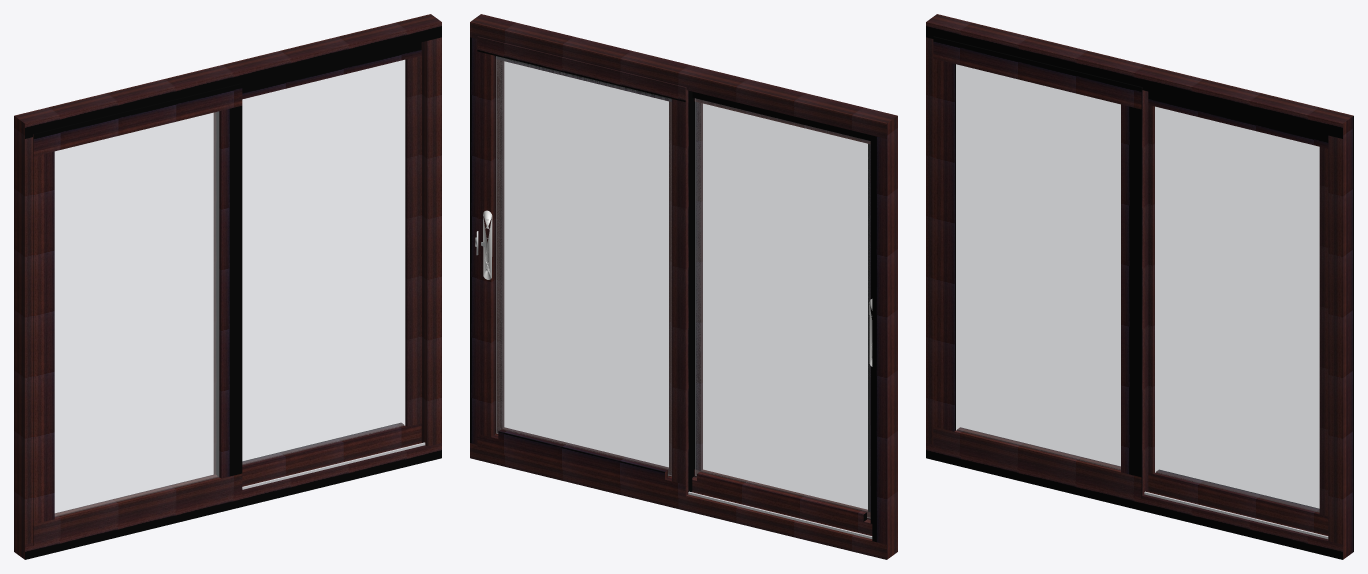
The model's file is FSQ_UPVC_Sliding_2Track_v01.glb.
The picture shows the model from 3 angles, left to right: view 1: azimuth 30°, elevation 25°; view 2: azimuth 150°, elevation 25°; view 3: azimuth 330°, elevation 25°; orthographic projection.
Visible parts, largest first — view 1: Left_Glass_5mm.001, Right_Glass_5mm.001, Frame_Outer_PS50_UF_01.001, Left_Sash_PS50_US_01.001, Right_Sash_PS50_US_01.001, Left_Bead_PA50_UB_01.001, Right_Bead_PA50_UB_01.001, Track_Rails_Alum.001; view 2: Right_Glass_5mm.001, Left_Glass_5mm.001, Frame_Outer_PS50_UF_01.001, Right_Sash_PS50_US_01.001, Left_Sash_PS50_US_01.001, Right_Bead_PA50_UB_01.001, Left_Bead_PA50_UB_01.001, Interlock_Right_PS50_UO_01.001, Track_Rails_Alum.001, TouchLock_Right_Body; view 3: Right_Glass_5mm.001, Left_Glass_5mm.001, Frame_Outer_PS50_UF_01.001, Left_Sash_PS50_US_01.001, Right_Sash_PS50_US_01.001, Interlock_Left_PS50_UO_01.001, Left_Bead_PA50_UB_01.001, Right_Bead_PA50_UB_01.001, Track_Rails_Alum.001.
Part boxes in pixels (x1,y1,x2,y2): Left_Glass_5mm.001: (55,111,218,516); Right_Glass_5mm.001: (242,60,404,464); Frame_Outer_PS50_UF_01.001: (14,14,441,559); Left_Sash_PS50_US_01.001: (33,83,242,545); Right_Sash_PS50_US_01.001: (213,42,421,485); Left_Bead_PA50_UB_01.001: (54,474,218,517); Right_Bead_PA50_UB_01.001: (242,423,404,465); Track_Rails_Alum.001: (242,442,425,489); Right_Glass_5mm.001: (496,56,671,475); Left_Glass_5mm.001: (695,98,870,518); Frame_Outer_PS50_UF_01.001: (470,14,897,559); Right_Sash_PS50_US_01.001: (477,36,691,499); Left_Sash_PS50_US_01.001: (692,91,872,535); Right_Bead_PA50_UB_01.001: (498,429,667,479); Left_Bead_PA50_UB_01.001: (697,471,866,521); Interlock_Right_PS50_UO_01.001: (691,91,692,491); Track_Rails_Alum.001: (688,491,872,538); TouchLock_Right_Body: (483,210,492,279); Right_Glass_5mm.001: (1155,107,1319,512); Left_Glass_5mm.001: (956,64,1120,469); Frame_Outer_PS50_UF_01.001: (926,14,1353,559); Left_Sash_PS50_US_01.001: (933,36,1147,499); Right_Sash_PS50_US_01.001: (1148,91,1328,535); Interlock_Left_PS50_UO_01.001: (1147,91,1148,491); Left_Bead_PA50_UB_01.001: (957,427,1120,470); Right_Bead_PA50_UB_01.001: (1156,469,1319,512); Track_Rails_Alum.001: (1144,491,1328,538).
Bounding box in the file's own units: 1.2 × 1.2 × 0.067.
8 materials, 1 textured.
